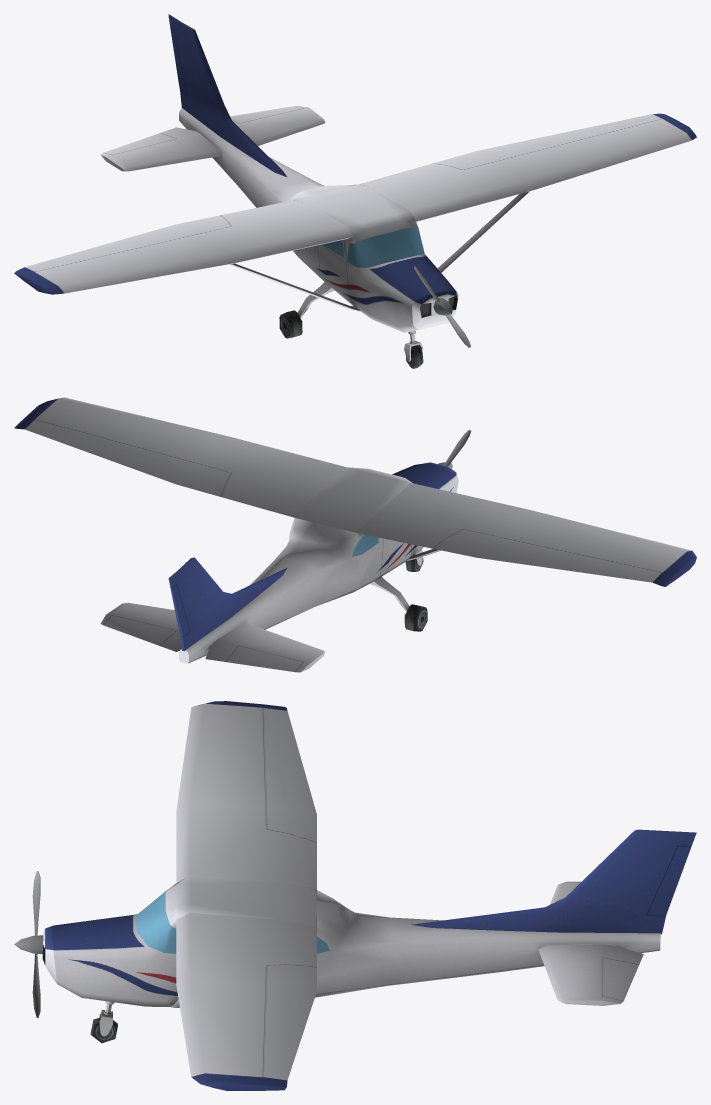
The model's file is airplane.glb.
The picture shows the model from 3 angles, top to bottom: view 1: azimuth 30°, elevation 25°; view 2: azimuth 150°, elevation 25°; view 3: azimuth 270°, elevation 25°; orthographic projection. The views are drawn at different scales.
Parts seen in each view (by area): view 1: awionetka; view 2: awionetka; view 3: awionetka.
Part boxes in pixels (x1,y1,x2,y2): awionetka: (14, 14, 696, 368); awionetka: (14, 397, 696, 672); awionetka: (14, 701, 696, 1090).
Bounding box in the file's own units: 130 × 33.63 × 97.93.
1 material, 1 textured.
